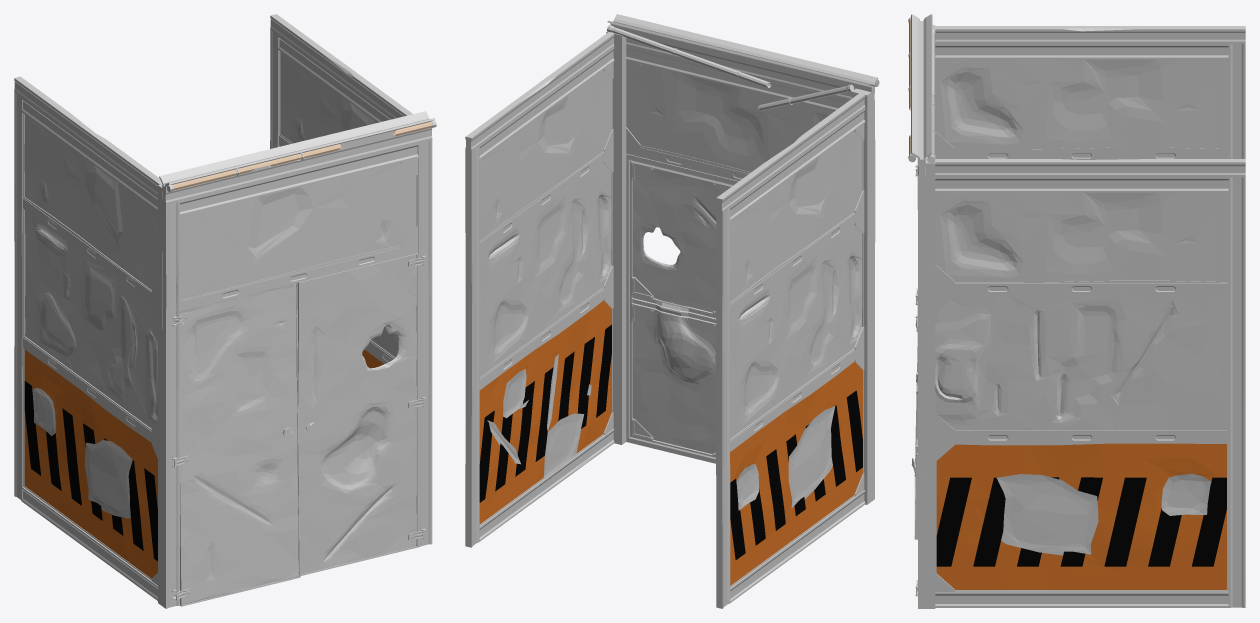
Rendered from SM_Wall_Angle_Door_Broken_02.glb.
The picture shows the model from 3 angles, left to right: view 1: azimuth 30°, elevation 25°; view 2: azimuth 150°, elevation 25°; view 3: azimuth 270°, elevation 25°; orthographic projection. The views are drawn at different scales.
Parts seen in each view (by area): view 1: SM_Wall_Angle_Door_Broken_02, SM_Door_Angle_Left_For_Wall_Door_Broken_02, SM_Door_Angle_Right_For_Wall_Door_Broken_02; view 2: SM_Wall_Angle_Door_Broken_02, SM_Door_Angle_Right_For_Wall_Door_Broken_02; view 3: SM_Wall_Angle_Door_Broken_02, SM_Door_Angle_Left_For_Wall_Door_Broken_02.
Part boxes in pixels (bbox=[...]): SM_Wall_Angle_Door_Broken_02: bbox=[14, 14, 436, 608]; SM_Door_Angle_Left_For_Wall_Door_Broken_02: bbox=[174, 282, 300, 606]; SM_Door_Angle_Right_For_Wall_Door_Broken_02: bbox=[296, 253, 425, 575]; SM_Wall_Angle_Door_Broken_02: bbox=[465, 14, 879, 608]; SM_Door_Angle_Right_For_Wall_Door_Broken_02: bbox=[626, 154, 738, 463]; SM_Wall_Angle_Door_Broken_02: bbox=[908, 14, 1245, 608]; SM_Door_Angle_Left_For_Wall_Door_Broken_02: bbox=[911, 168, 917, 539].
Size of the model in its own units: 2 by 3.07 by 2.06.
